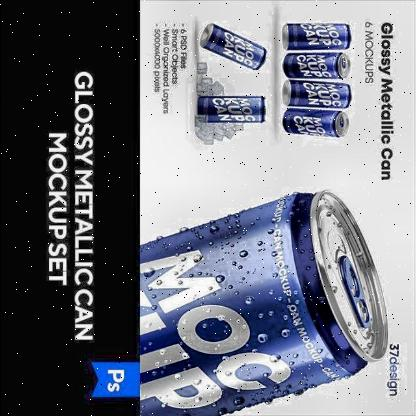Can: (135, 186, 396, 416), (196, 14, 270, 72), (282, 106, 352, 144), (279, 76, 357, 110), (280, 45, 353, 80), (280, 20, 355, 52), (194, 94, 268, 126)
